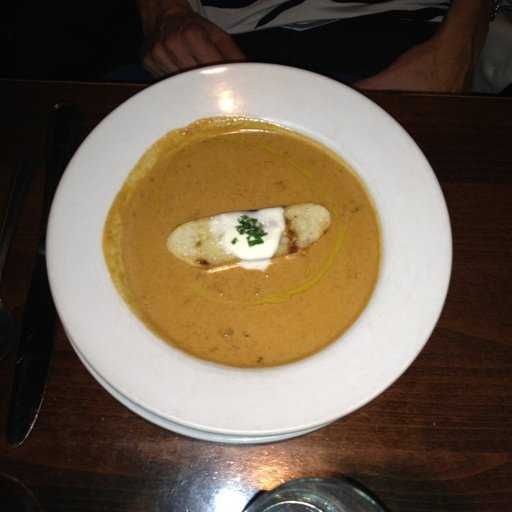soup: (53, 111, 404, 390)
